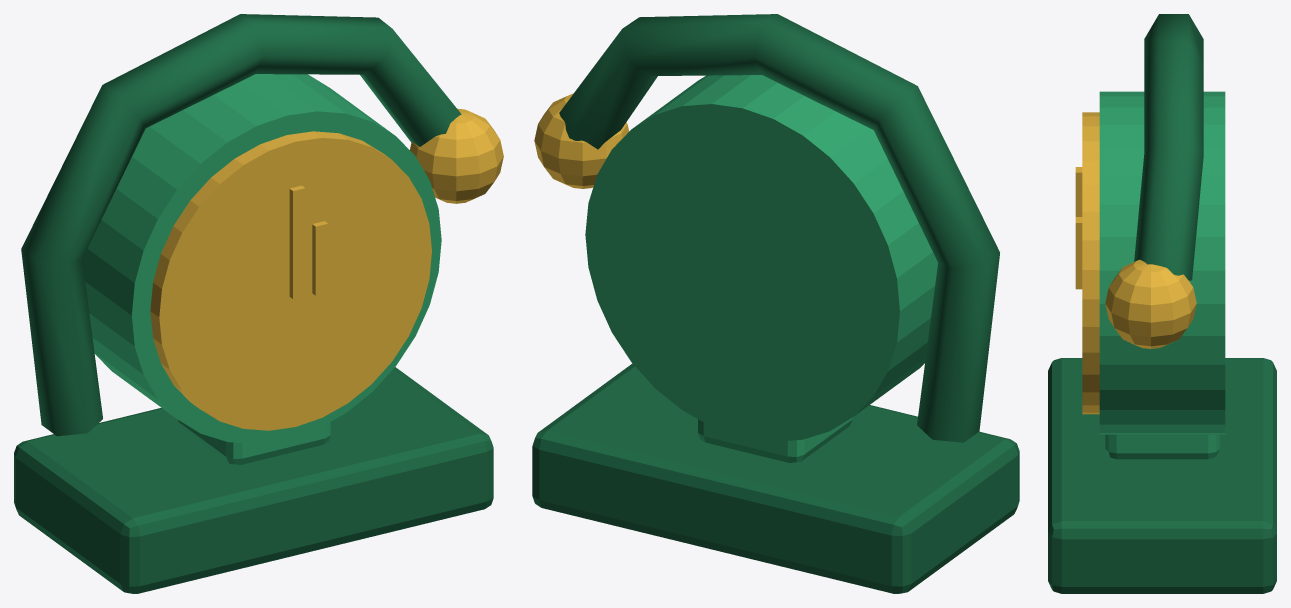
Rendered from JadeDragonClock.fbx.
The picture shows the model from 3 angles, left to right: view 1: azimuth 30°, elevation 25°; view 2: azimuth 150°, elevation 25°; view 3: azimuth 270°, elevation 25°; orthographic projection. The views are drawn at different scales.
Parts seen in each view (by area): view 1: Bezel, Pedestal, Dragon, Body, DragonHead, Neck, Hand, HandShort; view 2: Body, Pedestal, Dragon, DragonHead, Neck; view 3: Pedestal, Body, Dragon, DragonHead, Bezel, Neck, HandShort, Hand.
Boxes of the visible parts, <box> form: Bezel: <box>150,131,431,430</box>; Pedestal: <box>14,367,493,593</box>; Dragon: <box>21,14,461,436</box>; Body: <box>82,74,441,444</box>; DragonHead: <box>410,108,503,203</box>; Neck: <box>178,420,330,464</box>; Hand: <box>289,185,305,299</box>; HandShort: <box>312,221,328,295</box>; Body: <box>585,75,937,441</box>; Pedestal: <box>532,363,1019,593</box>; Dragon: <box>559,14,999,442</box>; DragonHead: <box>534,93,628,188</box>; Neck: <box>698,417,853,462</box>; Pedestal: <box>1048,358,1276,593</box>; Body: <box>1099,91,1225,434</box>; Dragon: <box>1134,14,1203,280</box>; DragonHead: <box>1105,259,1196,348</box>; Bezel: <box>1082,112,1099,414</box>; Neck: <box>1105,434,1219,459</box>; HandShort: <box>1075,217,1082,289</box>; Hand: <box>1075,167,1082,216</box>.
Bounding box in the file's own units: 2.21 × 2.26 × 1.
